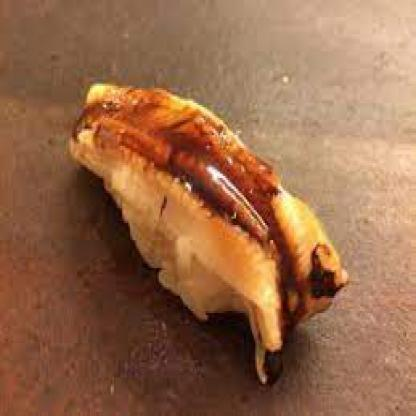anago: (63, 81, 357, 404)
